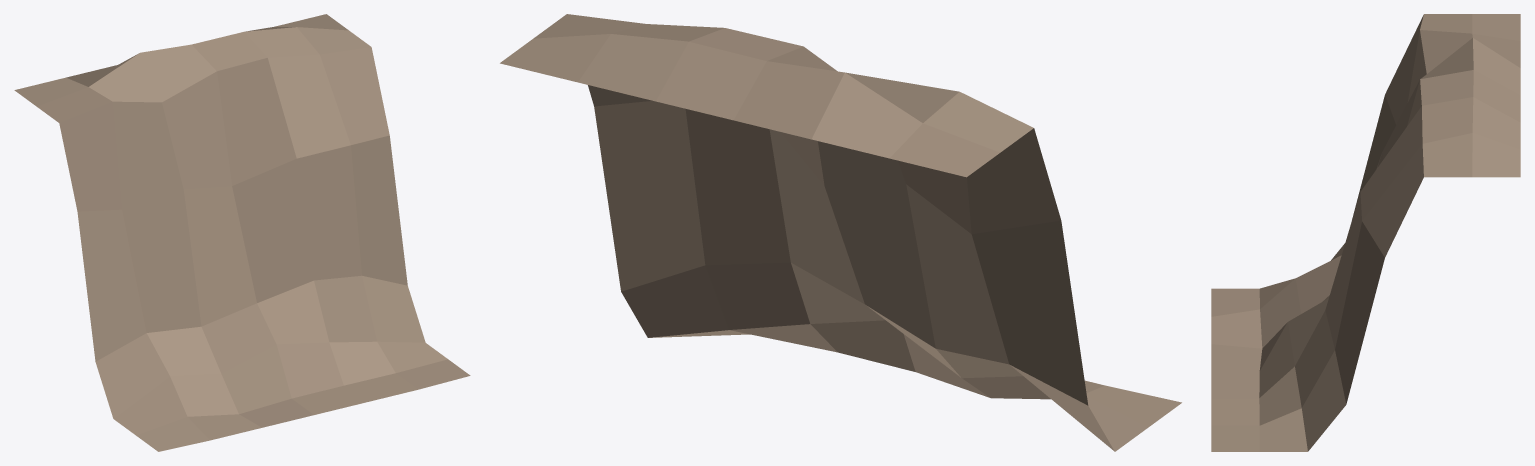
The model's file is Groborchik_RiverBank_5m_1.fbx.
The picture shows the model from 3 angles, left to right: view 1: azimuth 30°, elevation 25°; view 2: azimuth 150°, elevation 25°; view 3: azimuth 270°, elevation 25°; orthographic projection. The views are drawn at different scales.
Parts seen in each view (by area): view 1: 5m_1; view 2: 5m_1; view 3: 5m_1.
Boxes of the visible parts, x1,y1,x2,y2 form: 5m_1: (14,14,470,451); 5m_1: (500,14,1181,451); 5m_1: (1211,14,1520,451).
Size of the model in its own units: 1000 by 887 by 800.
